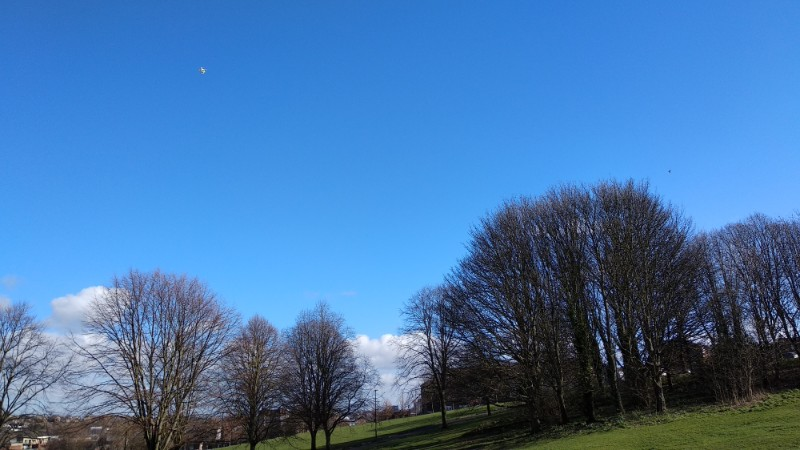drone: (197, 65, 209, 75)
